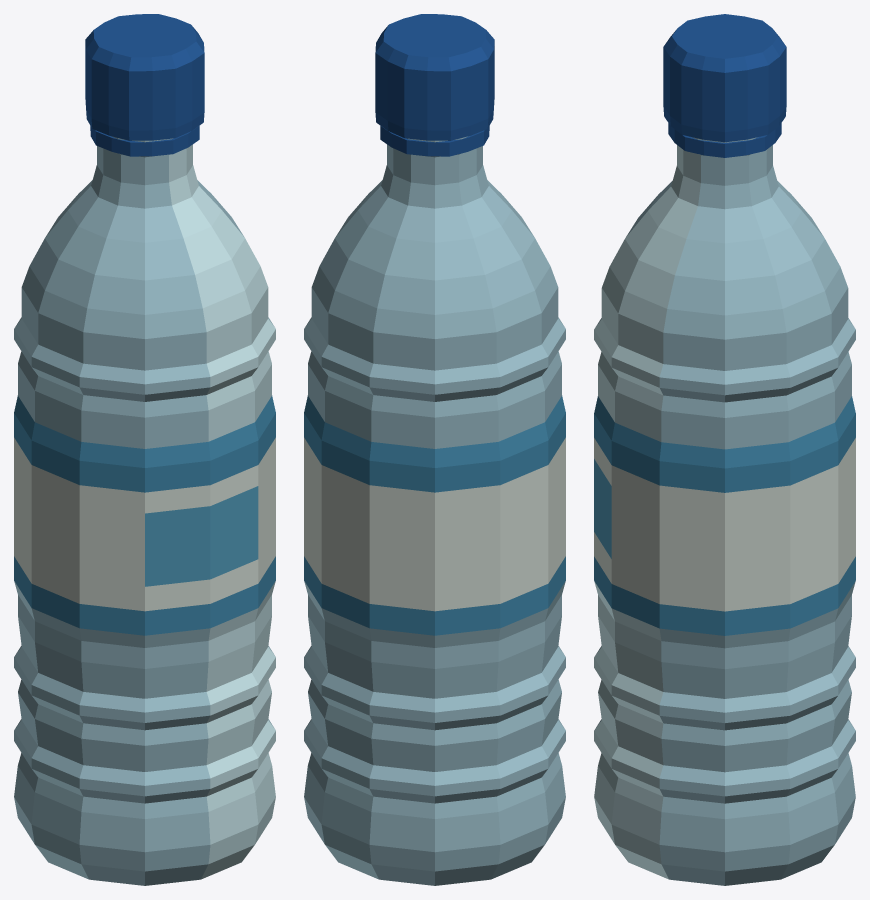
The model's file is bottle.glb.
The picture shows the model from 3 angles, left to right: view 1: azimuth 30°, elevation 25°; view 2: azimuth 150°, elevation 25°; view 3: azimuth 270°, elevation 25°; orthographic projection.
Visible parts, largest first — view 1: Water_Bottle; view 2: Water_Bottle; view 3: Water_Bottle.
Boxes of the visible parts, x1=… form: Water_Bottle: x1=14, y1=14, x2=275, y2=885; Water_Bottle: x1=304, y1=14, x2=565, y2=885; Water_Bottle: x1=594, y1=14, x2=855, y2=885.
Size of the model in its own units: 0.068 by 0.233 by 0.068.
1 material, 1 textured.
